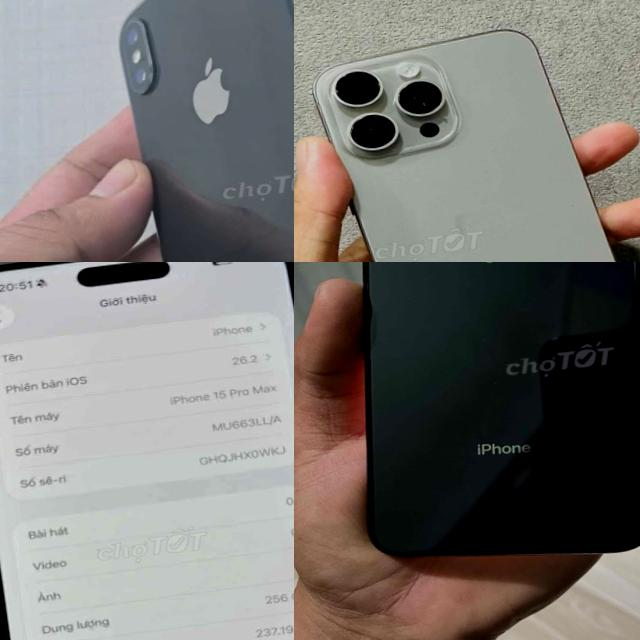gen_15: (0, 262, 294, 640), (296, 16, 640, 262)
gen_x_xs: (362, 262, 640, 555), (118, 0, 294, 262)
scratch: (318, 57, 452, 155)
